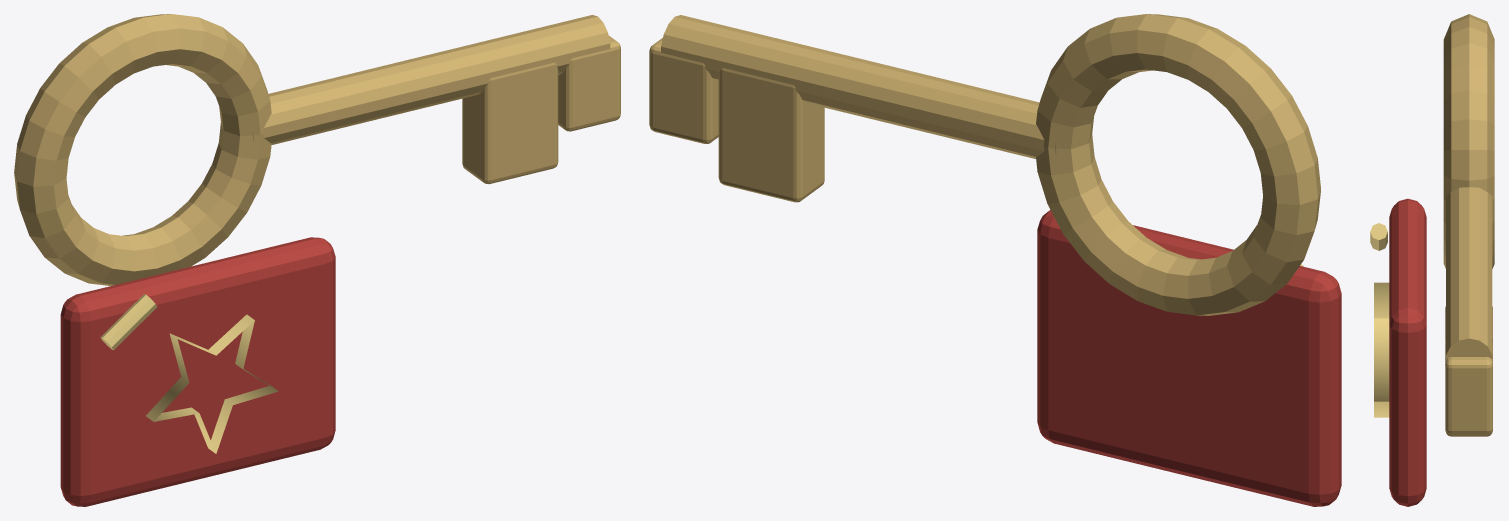
File: key-star-v1-DyYajgOw.glb
3 views of the same model, side by side, from view 1: azimuth 30°, elevation 25°; view 2: azimuth 150°, elevation 25°; view 3: azimuth 270°, elevation 25° (orthographic). The views are drawn at different scales.
Parts seen in each view (by area): view 1: Octagonal tag, Key bow, Key shaft, Key tooth one, Key tooth two, Star tag mark, Tag notch; view 2: Octagonal tag, Key bow, Key shaft, Key tooth one, Key tooth two; view 3: Octagonal tag, Key bow, Key shaft, Key tooth two, Star tag mark, Tag notch, Key tooth one.
Part boxes in pixels (box(x1,y1,x2,y2)): Octagonal tag: box(60, 237, 335, 506); Key bow: box(14, 14, 271, 285); Key shaft: box(253, 15, 610, 144); Key tooth one: box(462, 62, 558, 184); Key tooth two: box(558, 35, 620, 131); Star tag mark: box(146, 314, 278, 453); Tag notch: box(100, 294, 157, 350); Octagonal tag: box(1037, 210, 1341, 506); Key bow: box(1036, 14, 1320, 315); Key shaft: box(661, 15, 1056, 158); Key tooth one: box(718, 68, 824, 202); Key tooth two: box(649, 38, 718, 143); Octagonal tag: box(1389, 198, 1426, 506); Key bow: box(1443, 14, 1494, 268); Key shaft: box(1446, 187, 1492, 359); Key tooth two: box(1445, 343, 1492, 434); Star tag mark: box(1374, 282, 1389, 417); Tag notch: box(1370, 223, 1387, 250); Key tooth one: box(1445, 306, 1492, 436).
Bounding box in the file's own units: 1.9 × 1.35 × 0.366.
